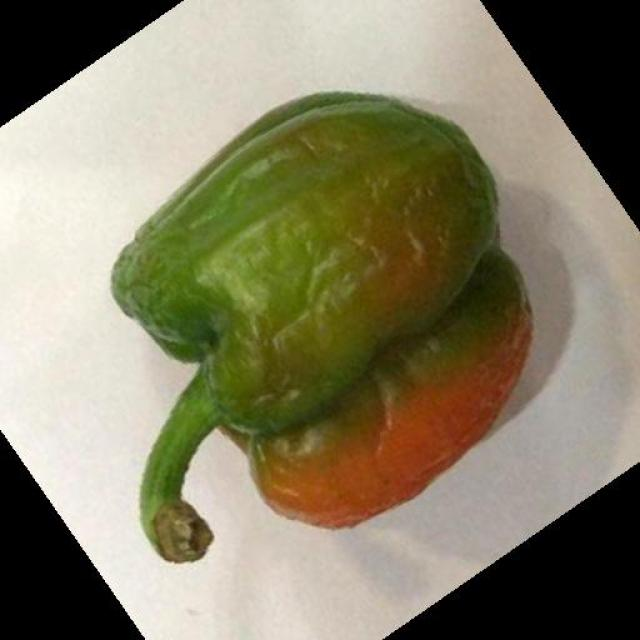Stale_Capsicum: (104, 58, 520, 500)
